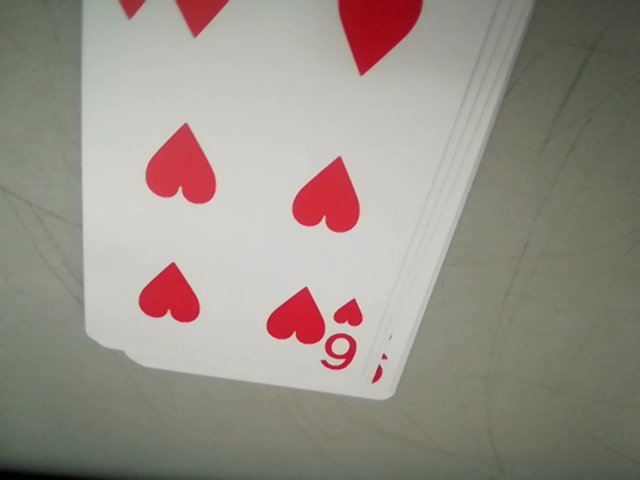hx 6: (322, 295, 365, 372)
